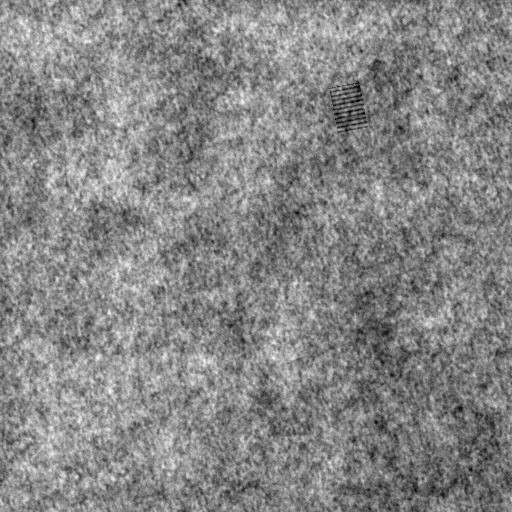DefectTypeB: (326, 84, 372, 131)
